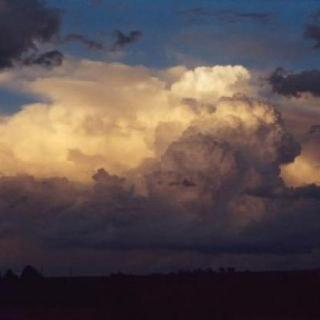Cumulonimbus: (0, 48, 320, 264)
